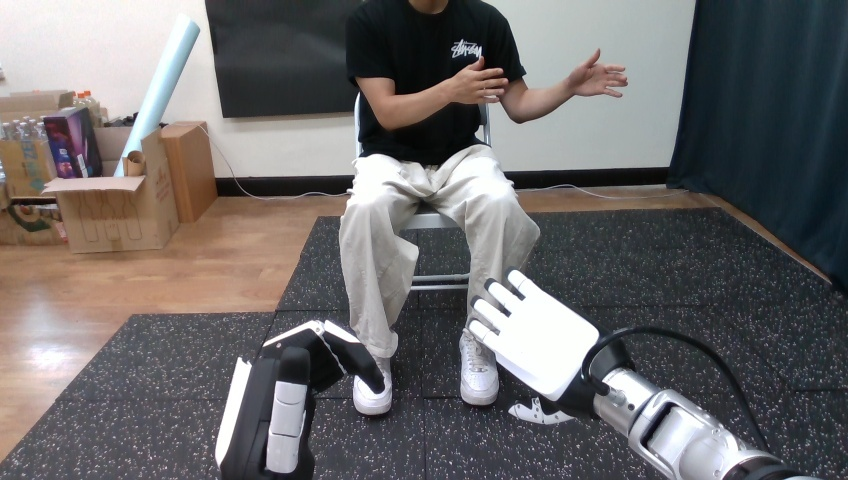left robot hand: (469, 269, 811, 479), (215, 320, 384, 479), (618, 332, 761, 449), (567, 49, 627, 97), (450, 57, 508, 103)
